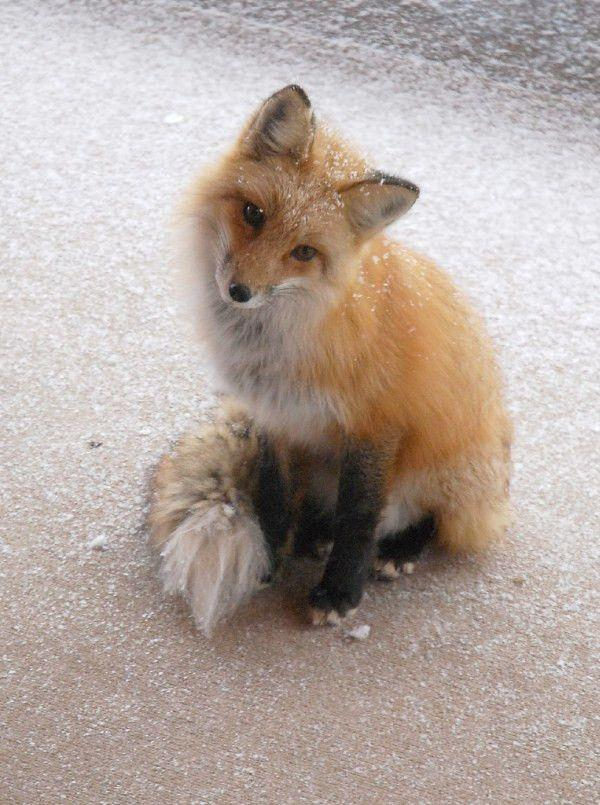fox: (147, 68, 534, 640)
